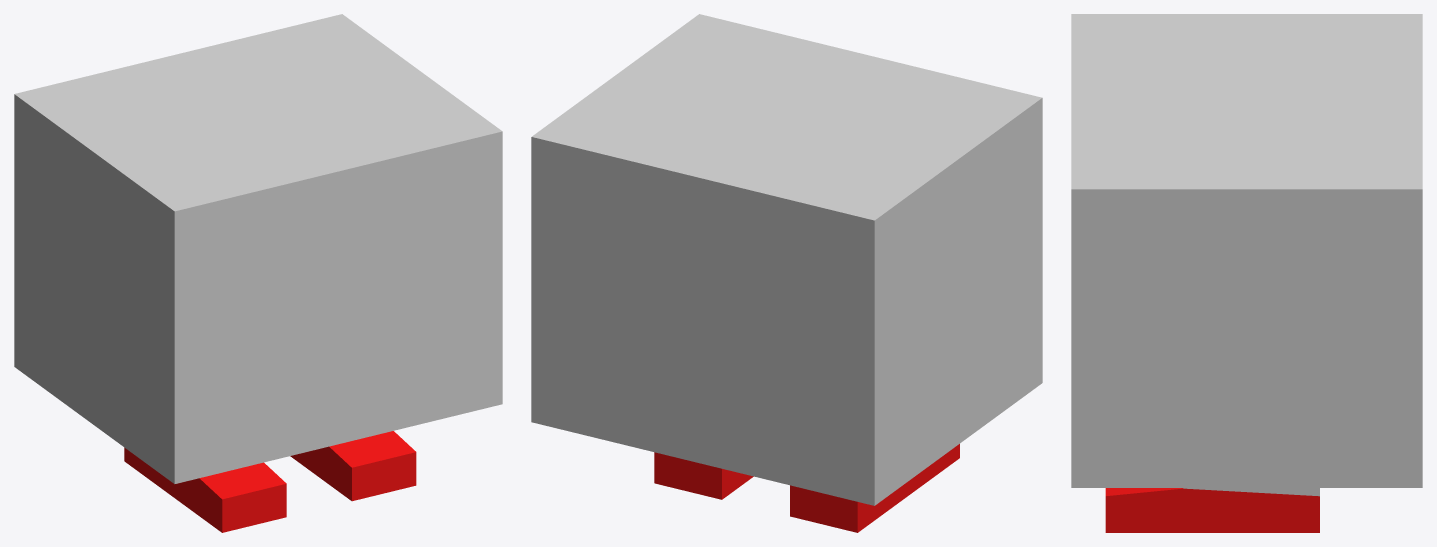
File: Arcade_Character.fbx
3 views of the same model, side by side, from view 1: azimuth 30°, elevation 25°; view 2: azimuth 150°, elevation 25°; view 3: azimuth 270°, elevation 25° (orthographic). The views are drawn at different scales.
Parts seen in each view (by area): view 1: Body, LeftLeg, RightLeg; view 2: Body, LeftLeg, RightLeg; view 3: Body, RightLeg.
Part boxes in pixels (x1,y1,x2,y2): Body: (14,14,502,483); LeftLeg: (124,447,286,532); RightLeg: (290,431,416,501); Body: (531,14,1042,505); LeftLeg: (790,444,959,532); RightLeg: (654,452,753,499); Body: (1071,14,1422,487); RightLeg: (1105,488,1319,532).
Size of the model in its own units: 19.45 by 19.74 by 16.48.
